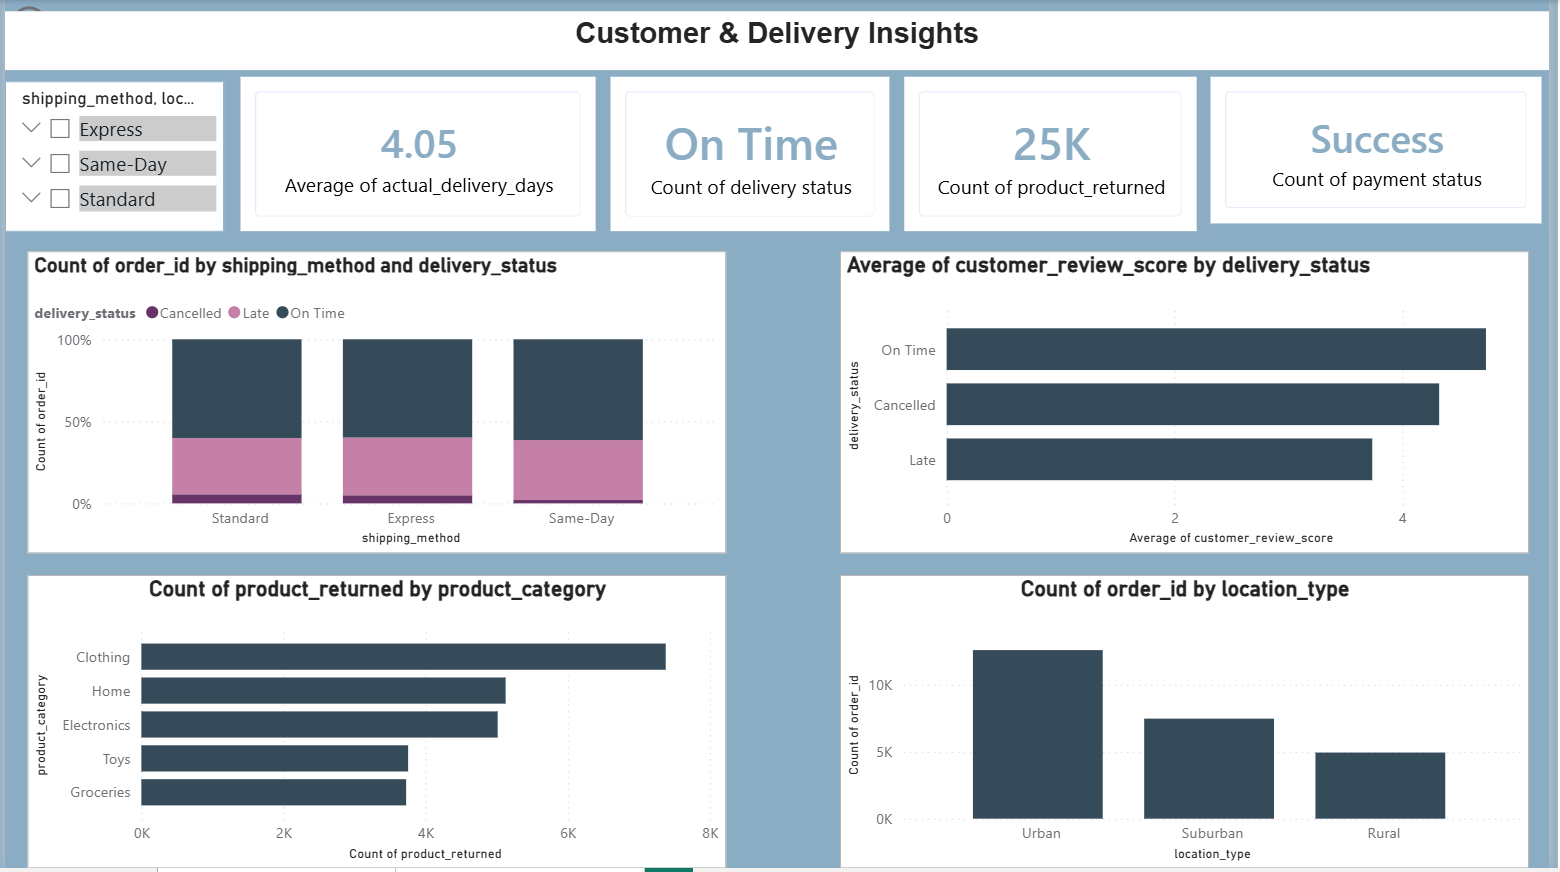

The dashboard page shown, as its layout file describes it:
{"tool":"powerbi","page":{"name":"Customer & Delivery Insights","canvas":[1280,720],"ordinal":1},"visuals":[{"type":"actionButton","box":[0,0,100,40],"z":1},{"type":"cardVisual","fields":{"Data":["Avg(workspace_clean_engagement.actual_delivery_days)"]},"box":[189.5,58.1,307,140.7],"z":2},{"type":"cardVisual","fields":{"Data":["CountNonNull(workspace_clean_engagement.product_returned)"]},"box":[739.5,58.1,254.7,140.7],"z":3},{"type":"cardVisual","fields":{"Data":["Max(workspace_clean_engagement.payment_status)"]},"box":[994.2,58.1,286,133.7],"z":4},{"type":"cardVisual","fields":{"Data":["Max(workspace_clean_engagement.delivery_status)"]},"box":[496.5,58.1,243,140.7],"z":5},{"type":"hundredPercentStackedColumnChart","fields":{"Series":["workspace_clean_engagement.delivery_status"],"Category":["workspace_clean_engagement.shipping_method"],"Y":["CountNonNull(workspace_clean_engagement.order_id)"]},"box":[18.6,208.1,579.1,250],"z":6},{"type":"clusteredColumnChart","fields":{"Category":["workspace_clean_engagement.location_type"],"Y":["CountNonNull(workspace_clean_engagement.order_id)"]},"box":[691.9,476.7,570.9,243],"z":7},{"type":"barChart","fields":{"Category":["workspace_clean_engagement.delivery_status"],"Y":["Avg(workspace_clean_engagement.customer_review_score)"]},"box":[691.9,208.1,570.9,250],"z":8},{"type":"clusteredBarChart","fields":{"Category":["workspace_clean_engagement.product_category"],"Y":["CountNonNull(workspace_clean_engagement.product_returned)"]},"box":[18.6,476.7,579.1,243],"z":9},{"type":"slicer","fields":{"Values":["workspace_clean_engagement.shipping_method","workspace_clean_engagement.location_type","workspace_clean_engagement.delivery_status"]},"box":[0,67.4,181.4,124.4],"z":10},{"type":"textbox","box":[0,9.3,1280.2,48.8],"z":11}]}

Visuals, with their boxes in screenshot pixels (x1, y1, x2, y2), scaled from the page's 1280x720 canvas onto the 1560x872 screenshot:
actionButton: [left=0, top=0, right=122, bottom=48]
cardVisual - Avg(workspace_clean_engagement.actual_delivery_days): [left=231, top=70, right=605, bottom=241]
cardVisual - CountNonNull(workspace_clean_engagement.product_returned): [left=901, top=70, right=1212, bottom=241]
cardVisual - Max(workspace_clean_engagement.payment_status): [left=1212, top=70, right=1559, bottom=232]
cardVisual - Max(workspace_clean_engagement.delivery_status): [left=605, top=70, right=901, bottom=241]
hundredPercentStackedColumnChart - workspace_clean_engagement.delivery_status x workspace_clean_engagement.shipping_method: [left=23, top=252, right=728, bottom=555]
clusteredColumnChart - workspace_clean_engagement.location_type x CountNonNull(workspace_clean_engagement.order_id): [left=843, top=577, right=1539, bottom=871]
barChart - workspace_clean_engagement.delivery_status x Avg(workspace_clean_engagement.customer_review_score): [left=843, top=252, right=1539, bottom=555]
clusteredBarChart - workspace_clean_engagement.product_category x CountNonNull(workspace_clean_engagement.product_returned): [left=23, top=577, right=728, bottom=871]
slicer - workspace_clean_engagement.shipping_method x workspace_clean_engagement.location_type: [left=0, top=82, right=221, bottom=232]
textbox: [left=0, top=11, right=1559, bottom=70]
